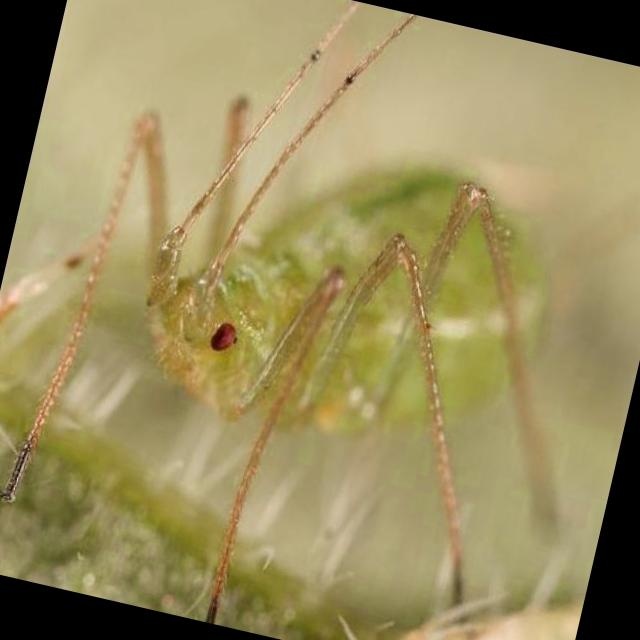aphid: (0, 46, 573, 628)
